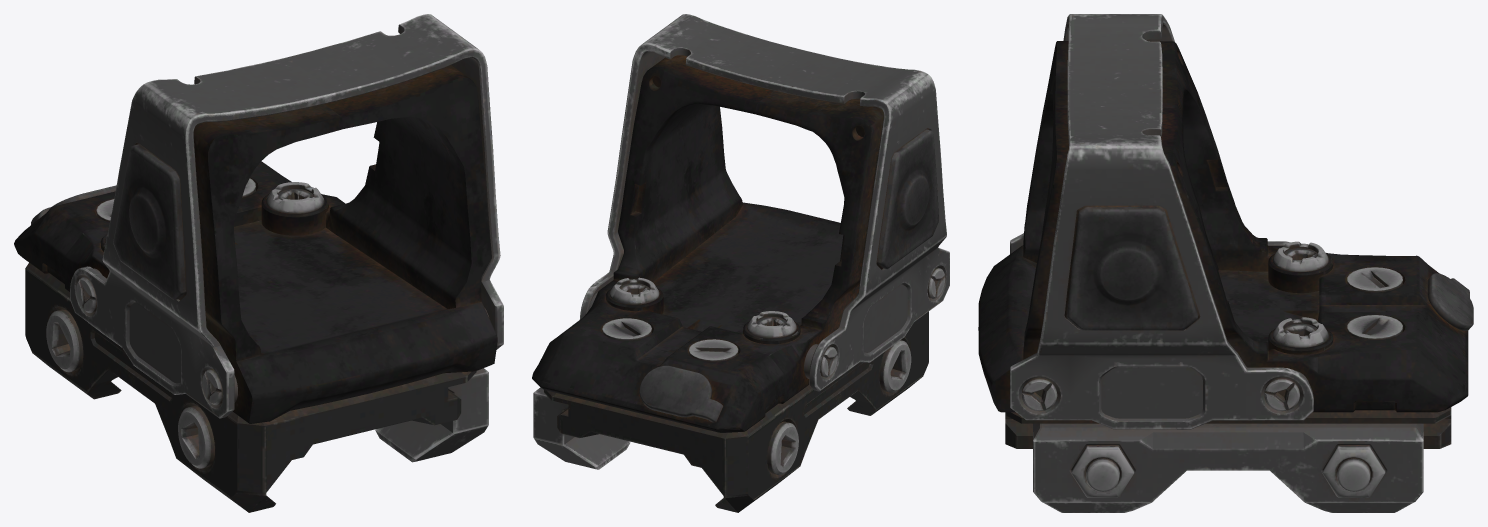
File: Sight_16.glb
3 views of the same model, side by side, from view 1: azimuth 30°, elevation 25°; view 2: azimuth 150°, elevation 25°; view 3: azimuth 270°, elevation 25° (orthographic). The views are drawn at different scales.
Parts seen in each view (by area): view 1: Sight_16; view 2: Sight_16; view 3: Sight_16.
Boxes of the visible parts, x1,y1,x2,y2 form: Sight_16: (14, 14, 503, 512); Sight_16: (532, 14, 949, 512); Sight_16: (978, 14, 1473, 512).
Size of the model in its own units: 0.0337 by 0.0395 by 0.0465.
Materials: 1 (1 with a texture image).
